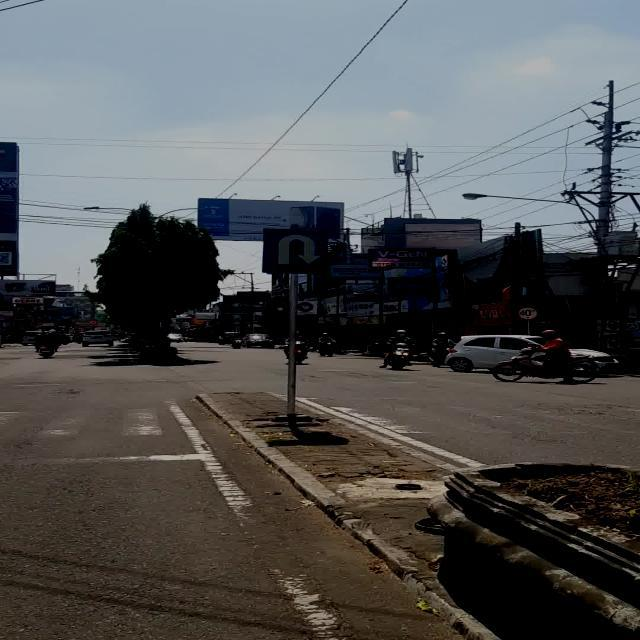Putar Balik: (261, 228, 328, 274)
